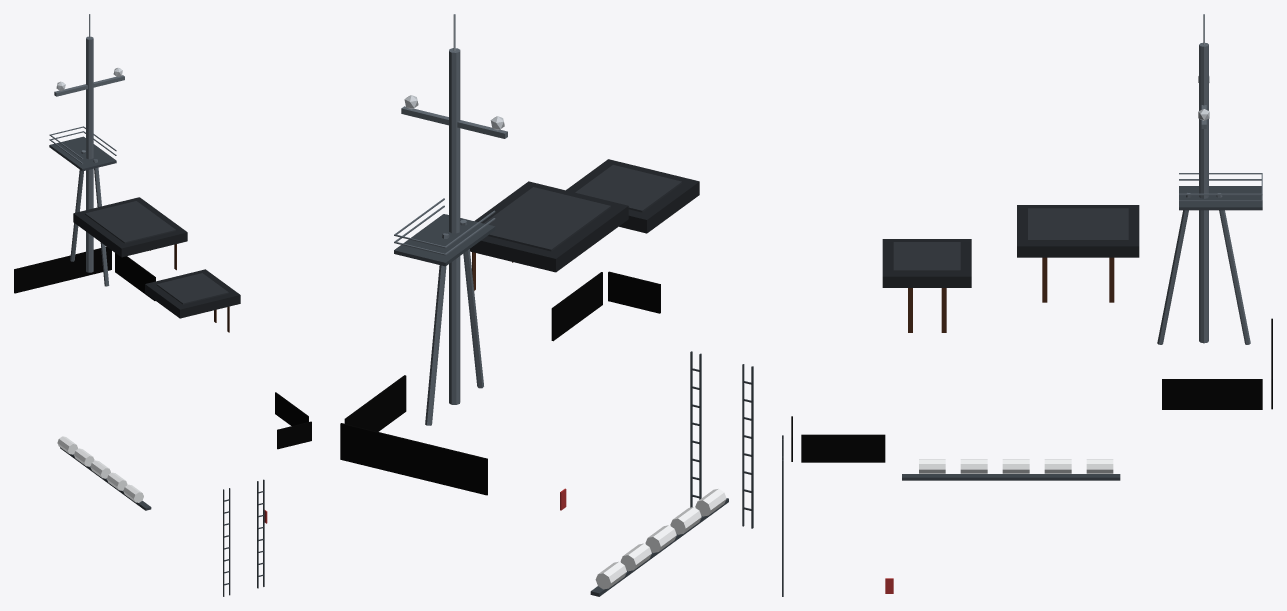
Rendered from env_fallow_island_trim.fbx.
The picture shows the model from 3 angles, left to right: view 1: azimuth 30°, elevation 25°; view 2: azimuth 150°, elevation 25°; view 3: azimuth 270°, elevation 25°; orthographic projection. The views are drawn at different scales.
Parts seen in each view (by area): view 1: env_fallow_island_trim; view 2: env_fallow_island_trim; view 3: env_fallow_island_trim.
Boxes of the visible parts, x1,y1,x2,y2 form: env_fallow_island_trim: (14, 14, 311, 596); env_fallow_island_trim: (340, 14, 753, 596); env_fallow_island_trim: (782, 14, 1272, 596).
Bounding box in the file's own units: 2260 × 7590 × 5850.
